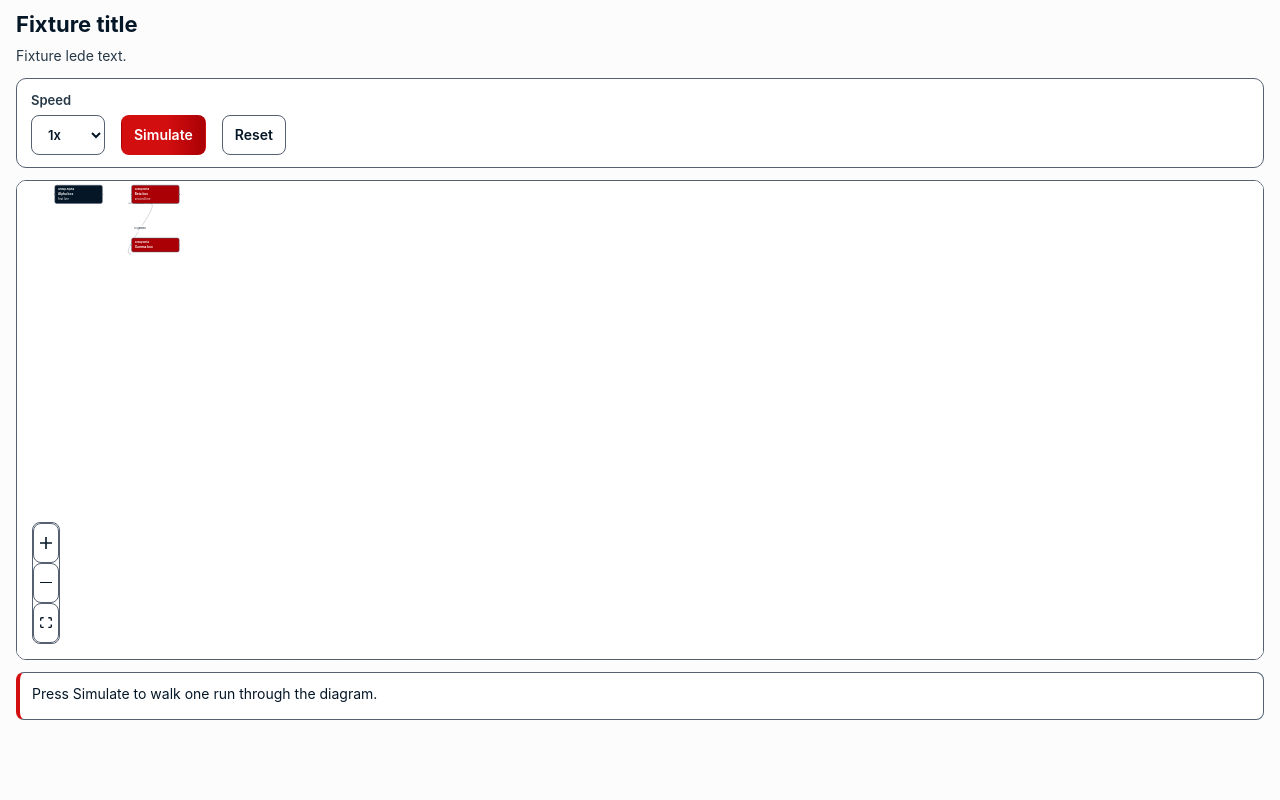
it: Diagram (rule 17: drawn from fetched diagram-studio/1 data) › the speed control changes the pace: at 4x all steps finish well inside the 1x pace
expect the heading "Fixture title" is shown: met, box [16,11,138,37]
Select "4x" in the dropdown labelled "Speed" at (68, 134), box [31,114,105,154]
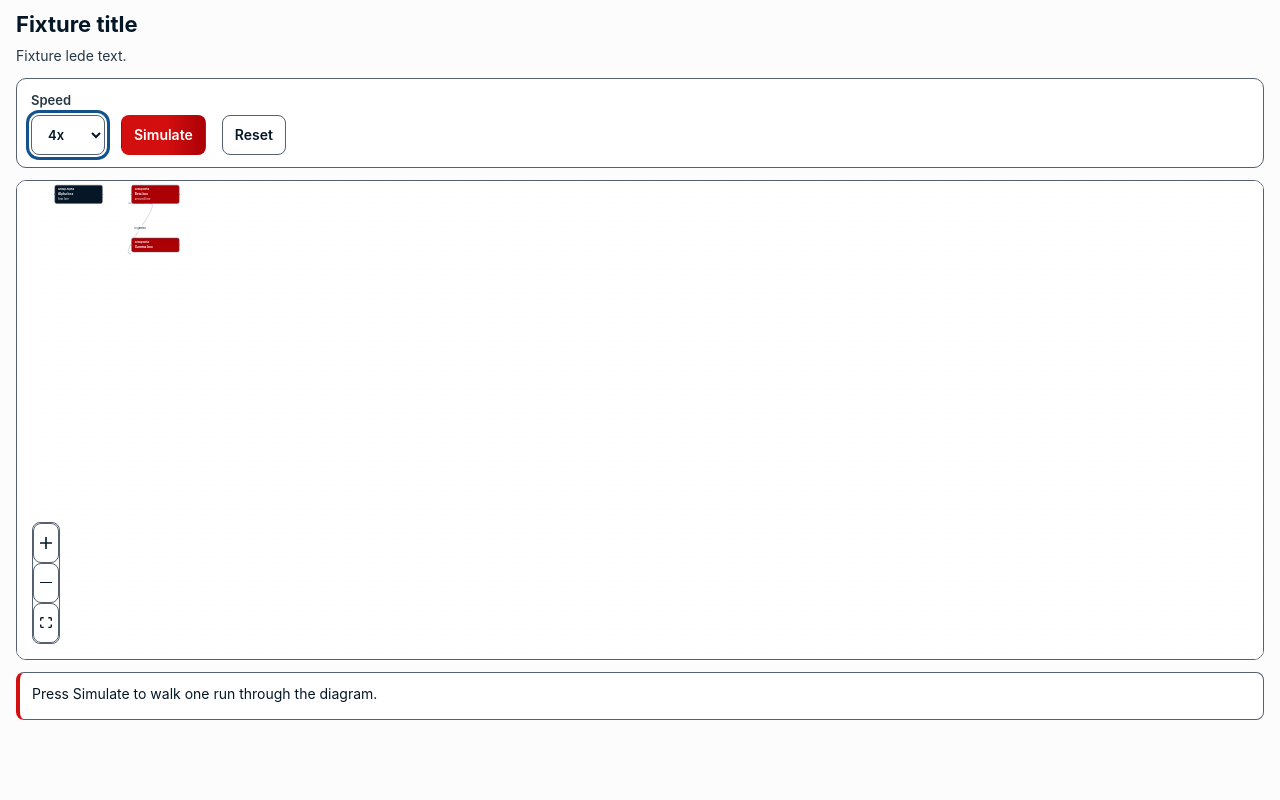
Click the button "Simulate" at (163, 134), box [121,114,206,154]
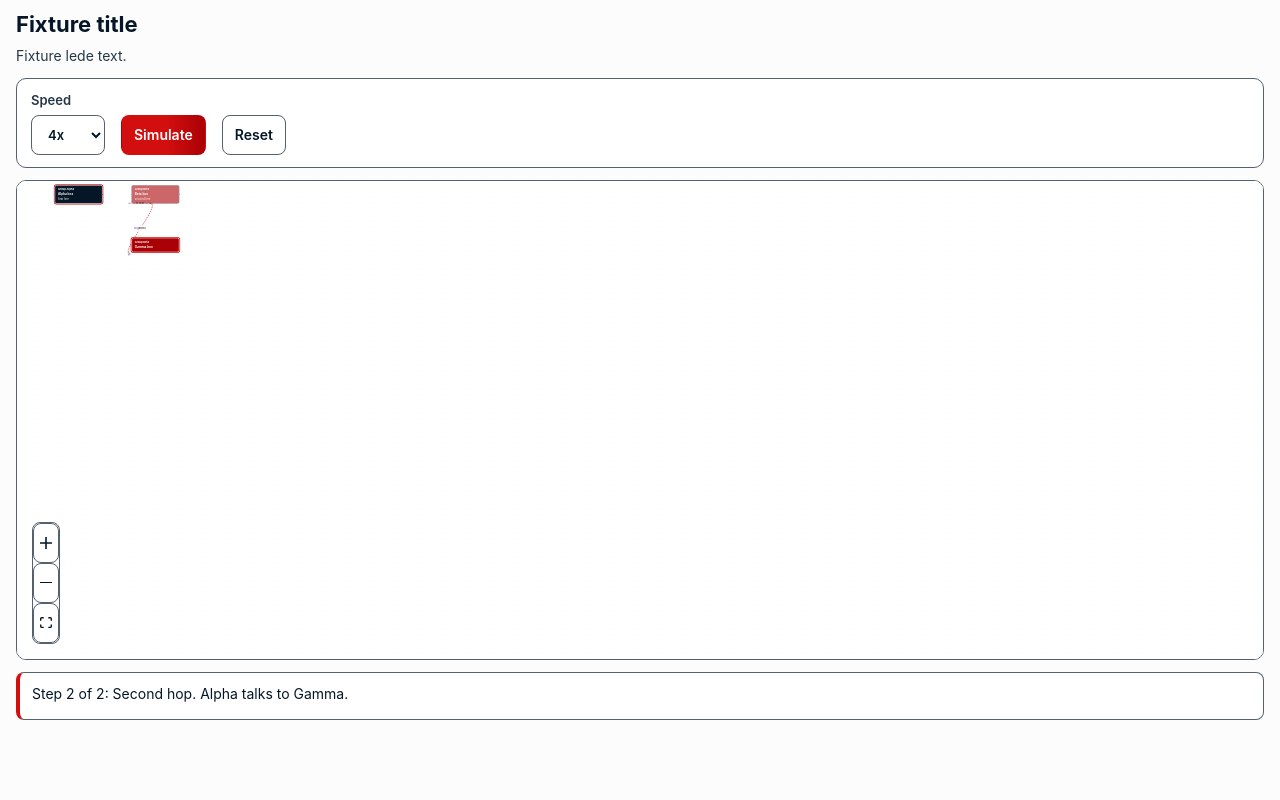
expect the message with test id "caption" shows "Step 2 of 2": met, box [32,684,348,702]
